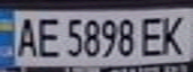5: (60, 15, 84, 58)
8: (115, 15, 139, 58), (81, 16, 103, 58)
9: (100, 16, 121, 58)
A: (9, 14, 42, 58)
E: (136, 14, 169, 58), (33, 13, 63, 60)
K: (157, 11, 190, 56)
